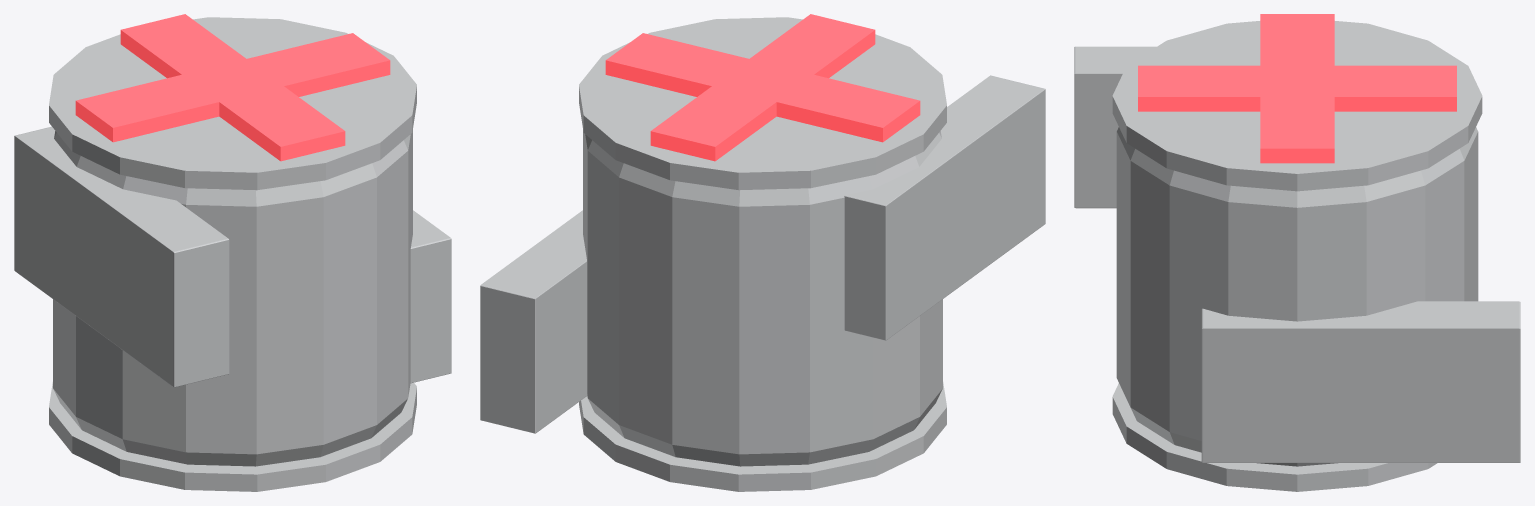
Rendered from bandage.glb.
3 renders of one model, left to right at view 1: azimuth 30°, elevation 25°; view 2: azimuth 150°, elevation 25°; view 3: azimuth 270°, elevation 25°, orthographic.
Visible parts, largest first — view 1: BandageRoll, BandageTapeB, BandageCapTop, BandageCrossHorizontal, BandageCrossVertical, BandageCapBottom, BandageTapeA; view 2: BandageRoll, BandageTapeB, BandageCapTop, BandageTapeA, BandageCrossVertical, BandageCrossHorizontal, BandageCapBottom; view 3: BandageRoll, BandageTapeA, BandageCapTop, BandageCrossVertical, BandageCrossHorizontal, BandageCapBottom, BandageTapeB.
Part boxes in pixels (x1,y1,x2,y2): BandageRoll: (53, 130, 412, 466); BandageTapeB: (14, 126, 229, 387); BandageCapTop: (49, 17, 416, 190); BandageCrossHorizontal: (75, 33, 390, 142); BandageCrossVertical: (120, 14, 345, 161); BandageCapBottom: (49, 382, 416, 491); BandageTapeA: (410, 210, 451, 383); BandageRoll: (583, 130, 942, 466); BandageTapeB: (844, 75, 1045, 340); BandageCapTop: (579, 17, 946, 190); BandageTapeA: (480, 210, 587, 433); BandageCrossVertical: (650, 14, 875, 161); BandageCrossHorizontal: (605, 33, 920, 142); BandageCapBottom: (579, 382, 946, 491); BandageRoll: (1116, 127, 1478, 466); BandageTapeA: (1201, 301, 1520, 462); BandageCapTop: (1112, 21, 1482, 191); BandageCrossVertical: (1138, 65, 1456, 111); BandageCrossHorizontal: (1260, 14, 1334, 163); BandageCapBottom: (1112, 383, 1437, 491); BandageTapeB: (1074, 46, 1156, 208).
Size of the model in its own units: 0.37 by 0.345 by 0.42.
